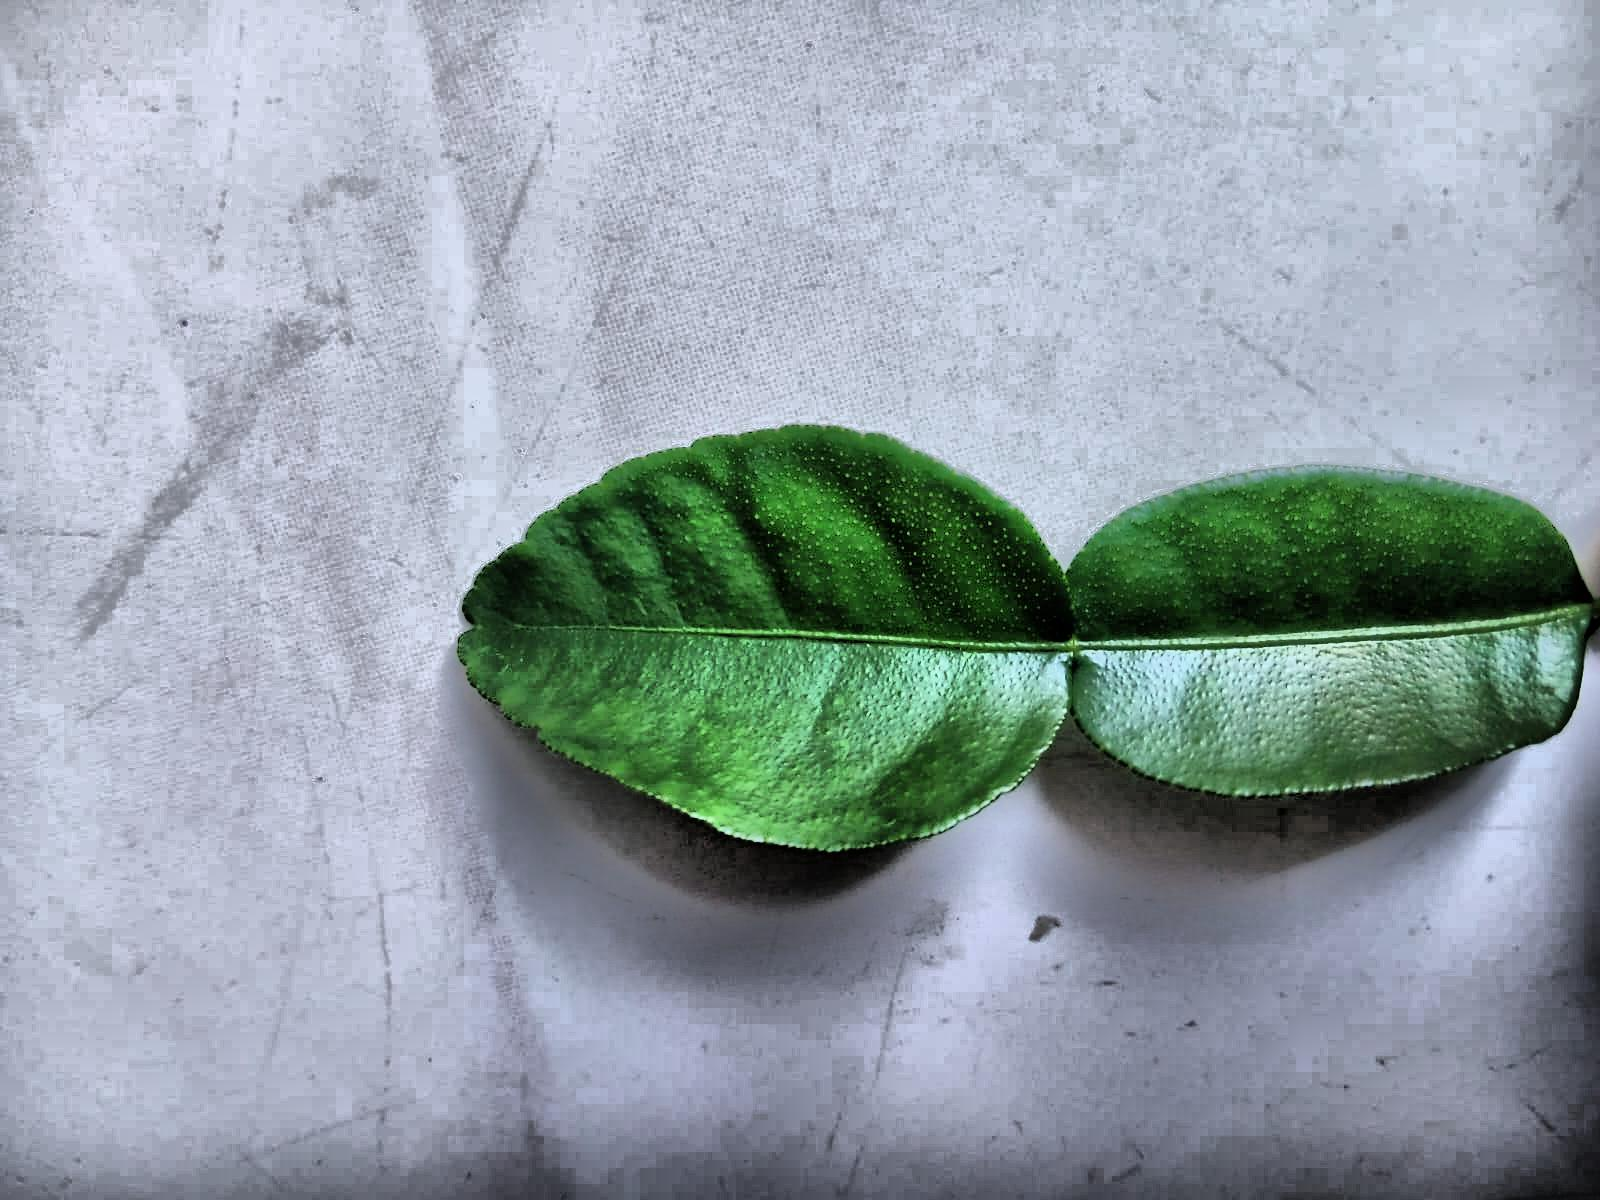daun jeruk: (459, 426, 1599, 850)
